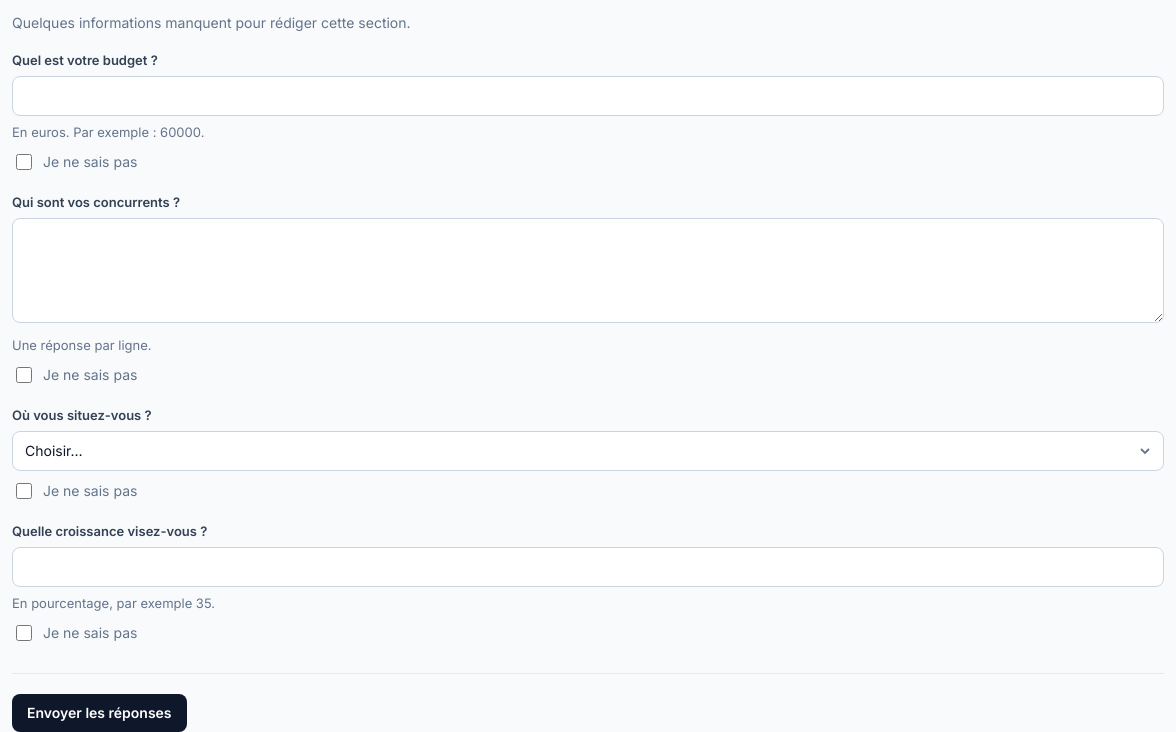
QuestionsForm › refuse d'envoyer un lot incomplet et dit quel champ pèche
Type "beaucoup" into the field labelled "Quel est votre budget ?".
click(588, 96); type("beaucoup")  # box 12,76 -> 1164,116
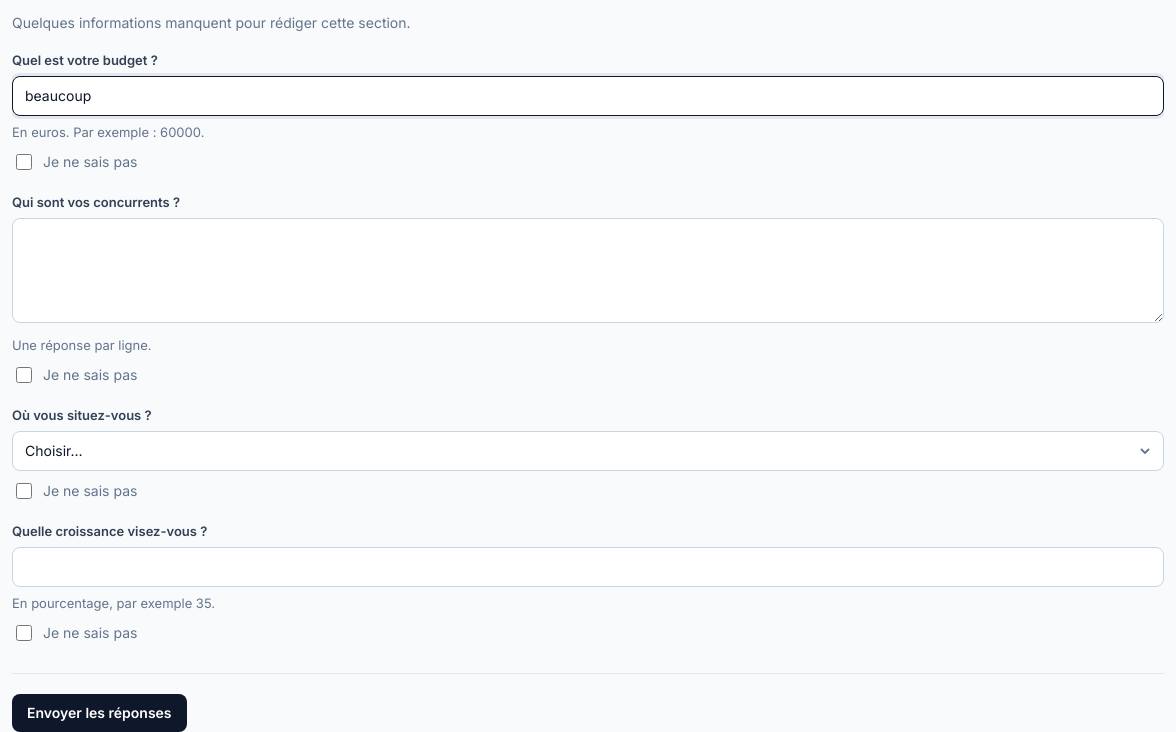
Click the button "Envoyer les réponses".
click(99, 713)  # box 12,694 -> 187,731
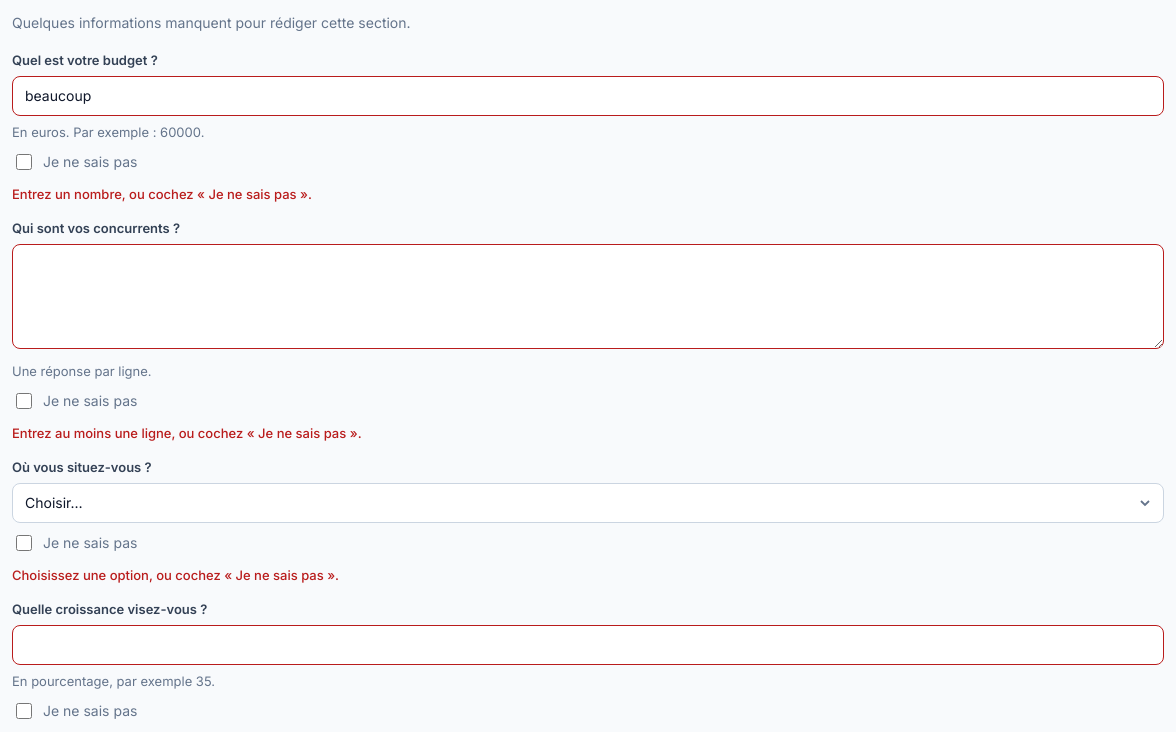
Expected: the text "Entrez un nombre, ou cochez « Je ne sais pas »." is shown, 12,186 -> 312,202
